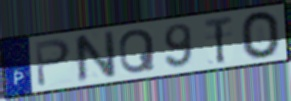9: (163, 22, 195, 71)
N: (72, 28, 119, 85)
O: (238, 10, 282, 61)
P: (33, 37, 73, 89)
Q: (118, 28, 158, 76)
T: (203, 14, 235, 66)
